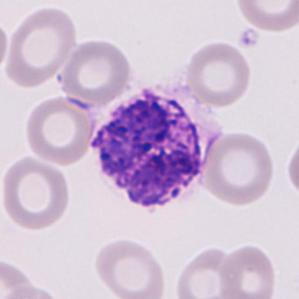Basophil: (85, 76, 223, 222)
Platelets: (236, 26, 262, 50)
RBC: (2, 3, 80, 90), (196, 129, 278, 207), (0, 153, 73, 233), (22, 93, 98, 167), (55, 36, 135, 106), (182, 38, 254, 110), (91, 235, 169, 299), (172, 245, 242, 299), (216, 242, 280, 299), (233, 0, 298, 34), (0, 256, 39, 298), (0, 283, 68, 299), (284, 135, 299, 202), (1, 0, 78, 9), (0, 17, 11, 74)
